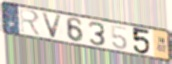3: (87, 21, 107, 47)
5: (130, 26, 152, 56), (110, 24, 128, 50)
6: (65, 16, 85, 44)
R: (18, 7, 43, 37)
V: (40, 11, 64, 40)
